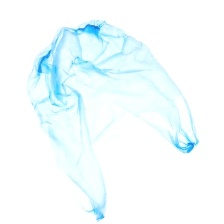plastic_bag: (18, 16, 204, 223)
